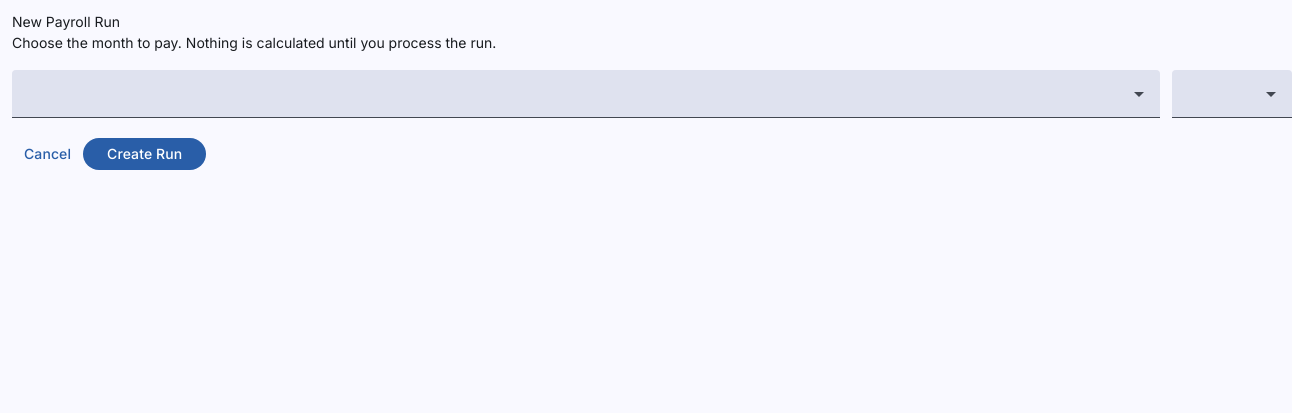
it: NewRunDialogComponent › offers the twelve months by name (the options exist only once the select is opened)
Click the 1st dropdown at (1139, 94), box left=1127, top=82, right=1151, bottom=106
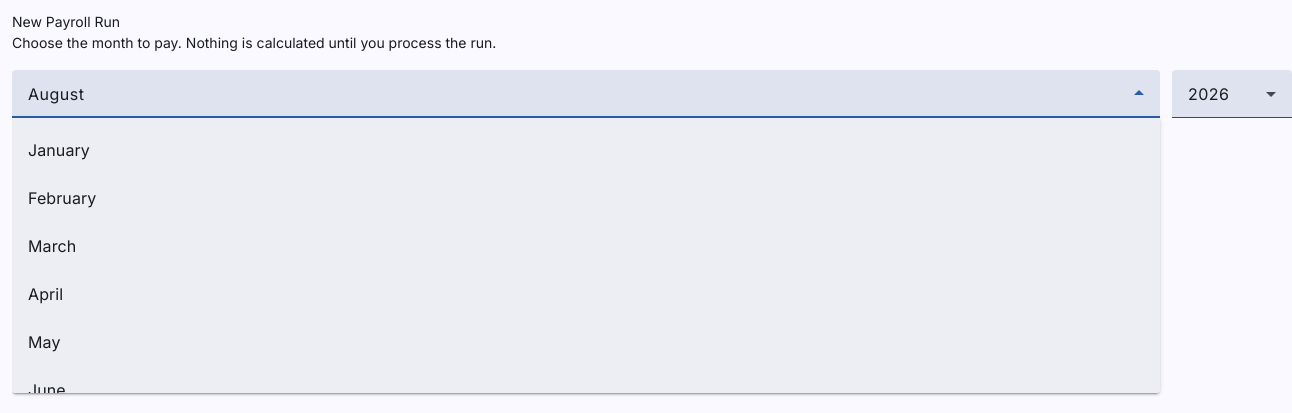
Result: the text "January" is shown at left=28, top=140, right=90, bottom=160
